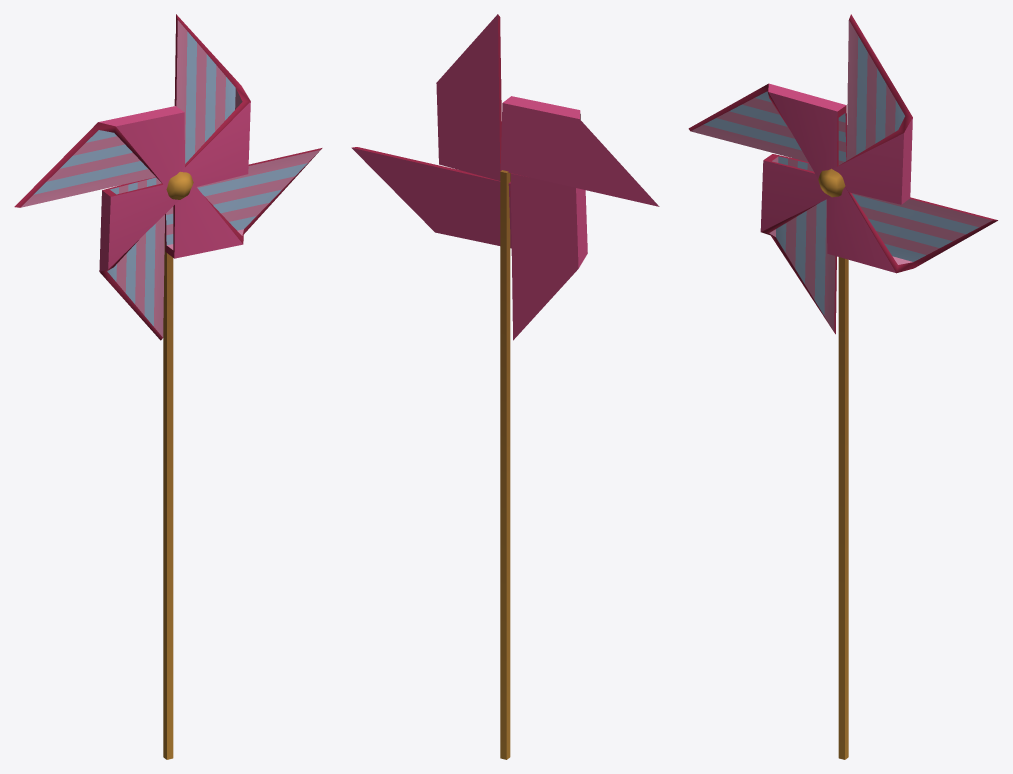
The model's file is human-toys-pinwheel_v3.glb.
3 renders of one model, left to right at view 1: azimuth 30°, elevation 25°; view 2: azimuth 150°, elevation 25°; view 3: azimuth 330°, elevation 25°, orthographic.
Parts seen in each view (by area): view 1: Pinwheel_v3; view 2: Pinwheel_v3; view 3: Pinwheel_v3.
Boxes of the visible parts, <box> form: Pinwheel_v3: <box>14,14,322,759</box>; Pinwheel_v3: <box>351,14,659,759</box>; Pinwheel_v3: <box>688,14,997,759</box>.
Size of the model in its own units: 0.1742 by 0.4 by 0.0184.
